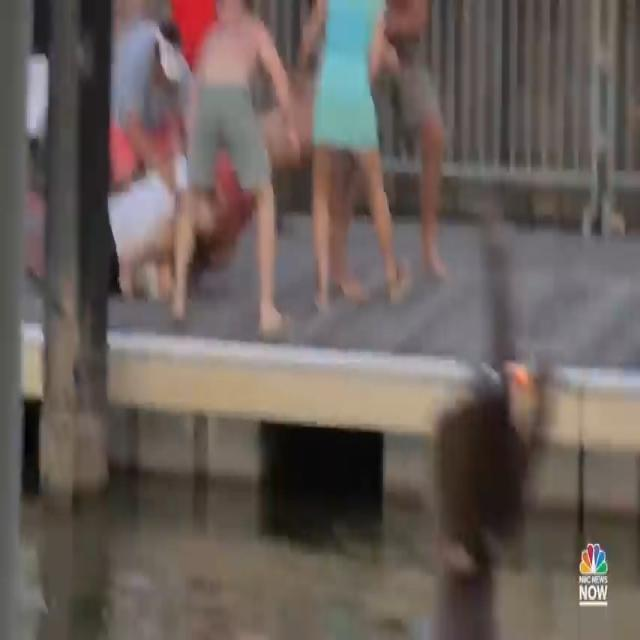fight: (109, 0, 454, 342)
